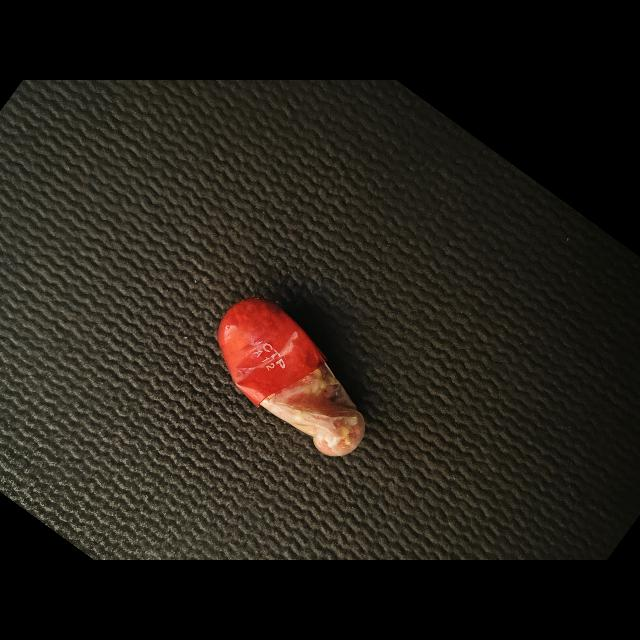Defective Capsule: (218, 298, 365, 456)
